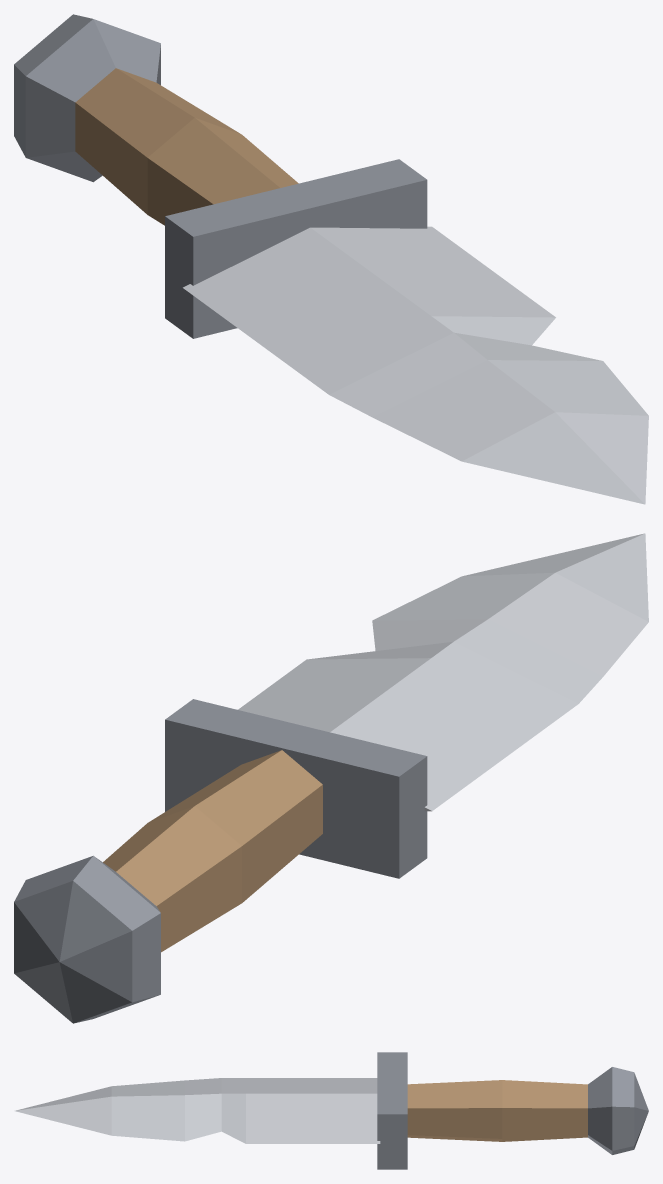
Rendered from dirk.glb.
The picture shows the model from 3 angles, top to bottom: view 1: azimuth 30°, elevation 25°; view 2: azimuth 150°, elevation 25°; view 3: azimuth 270°, elevation 25°; orthographic projection. The views are drawn at different scales.
Visible parts, largest first — view 1: dirk; view 2: dirk; view 3: dirk.
Boxes of the visible parts, box(x1,y1,x2,y2) form: dirk: box(14, 14, 648, 504); dirk: box(14, 533, 648, 1023); dirk: box(15, 1052, 648, 1169).
Bounding box in the file's own units: 0.128 × 0.08 × 0.52.
